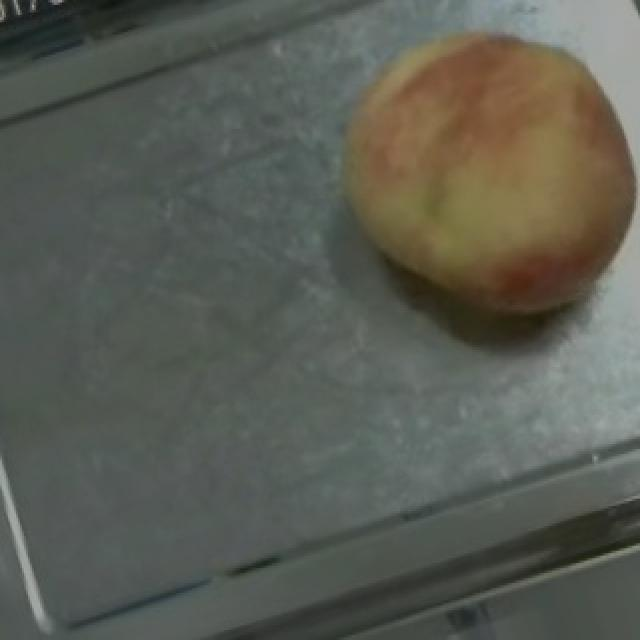Fruit: (300, 0, 626, 327)
